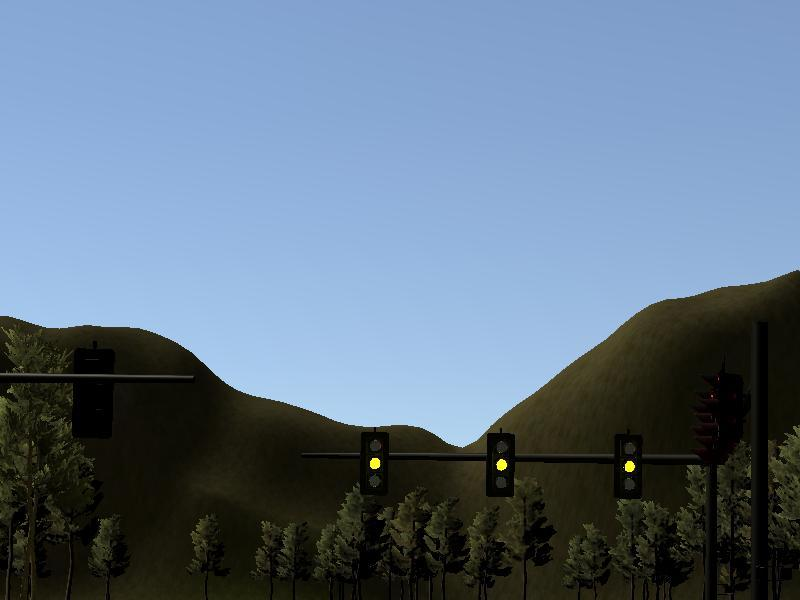Yellow: (486, 434, 515, 497), (360, 432, 388, 495), (614, 434, 642, 497)
